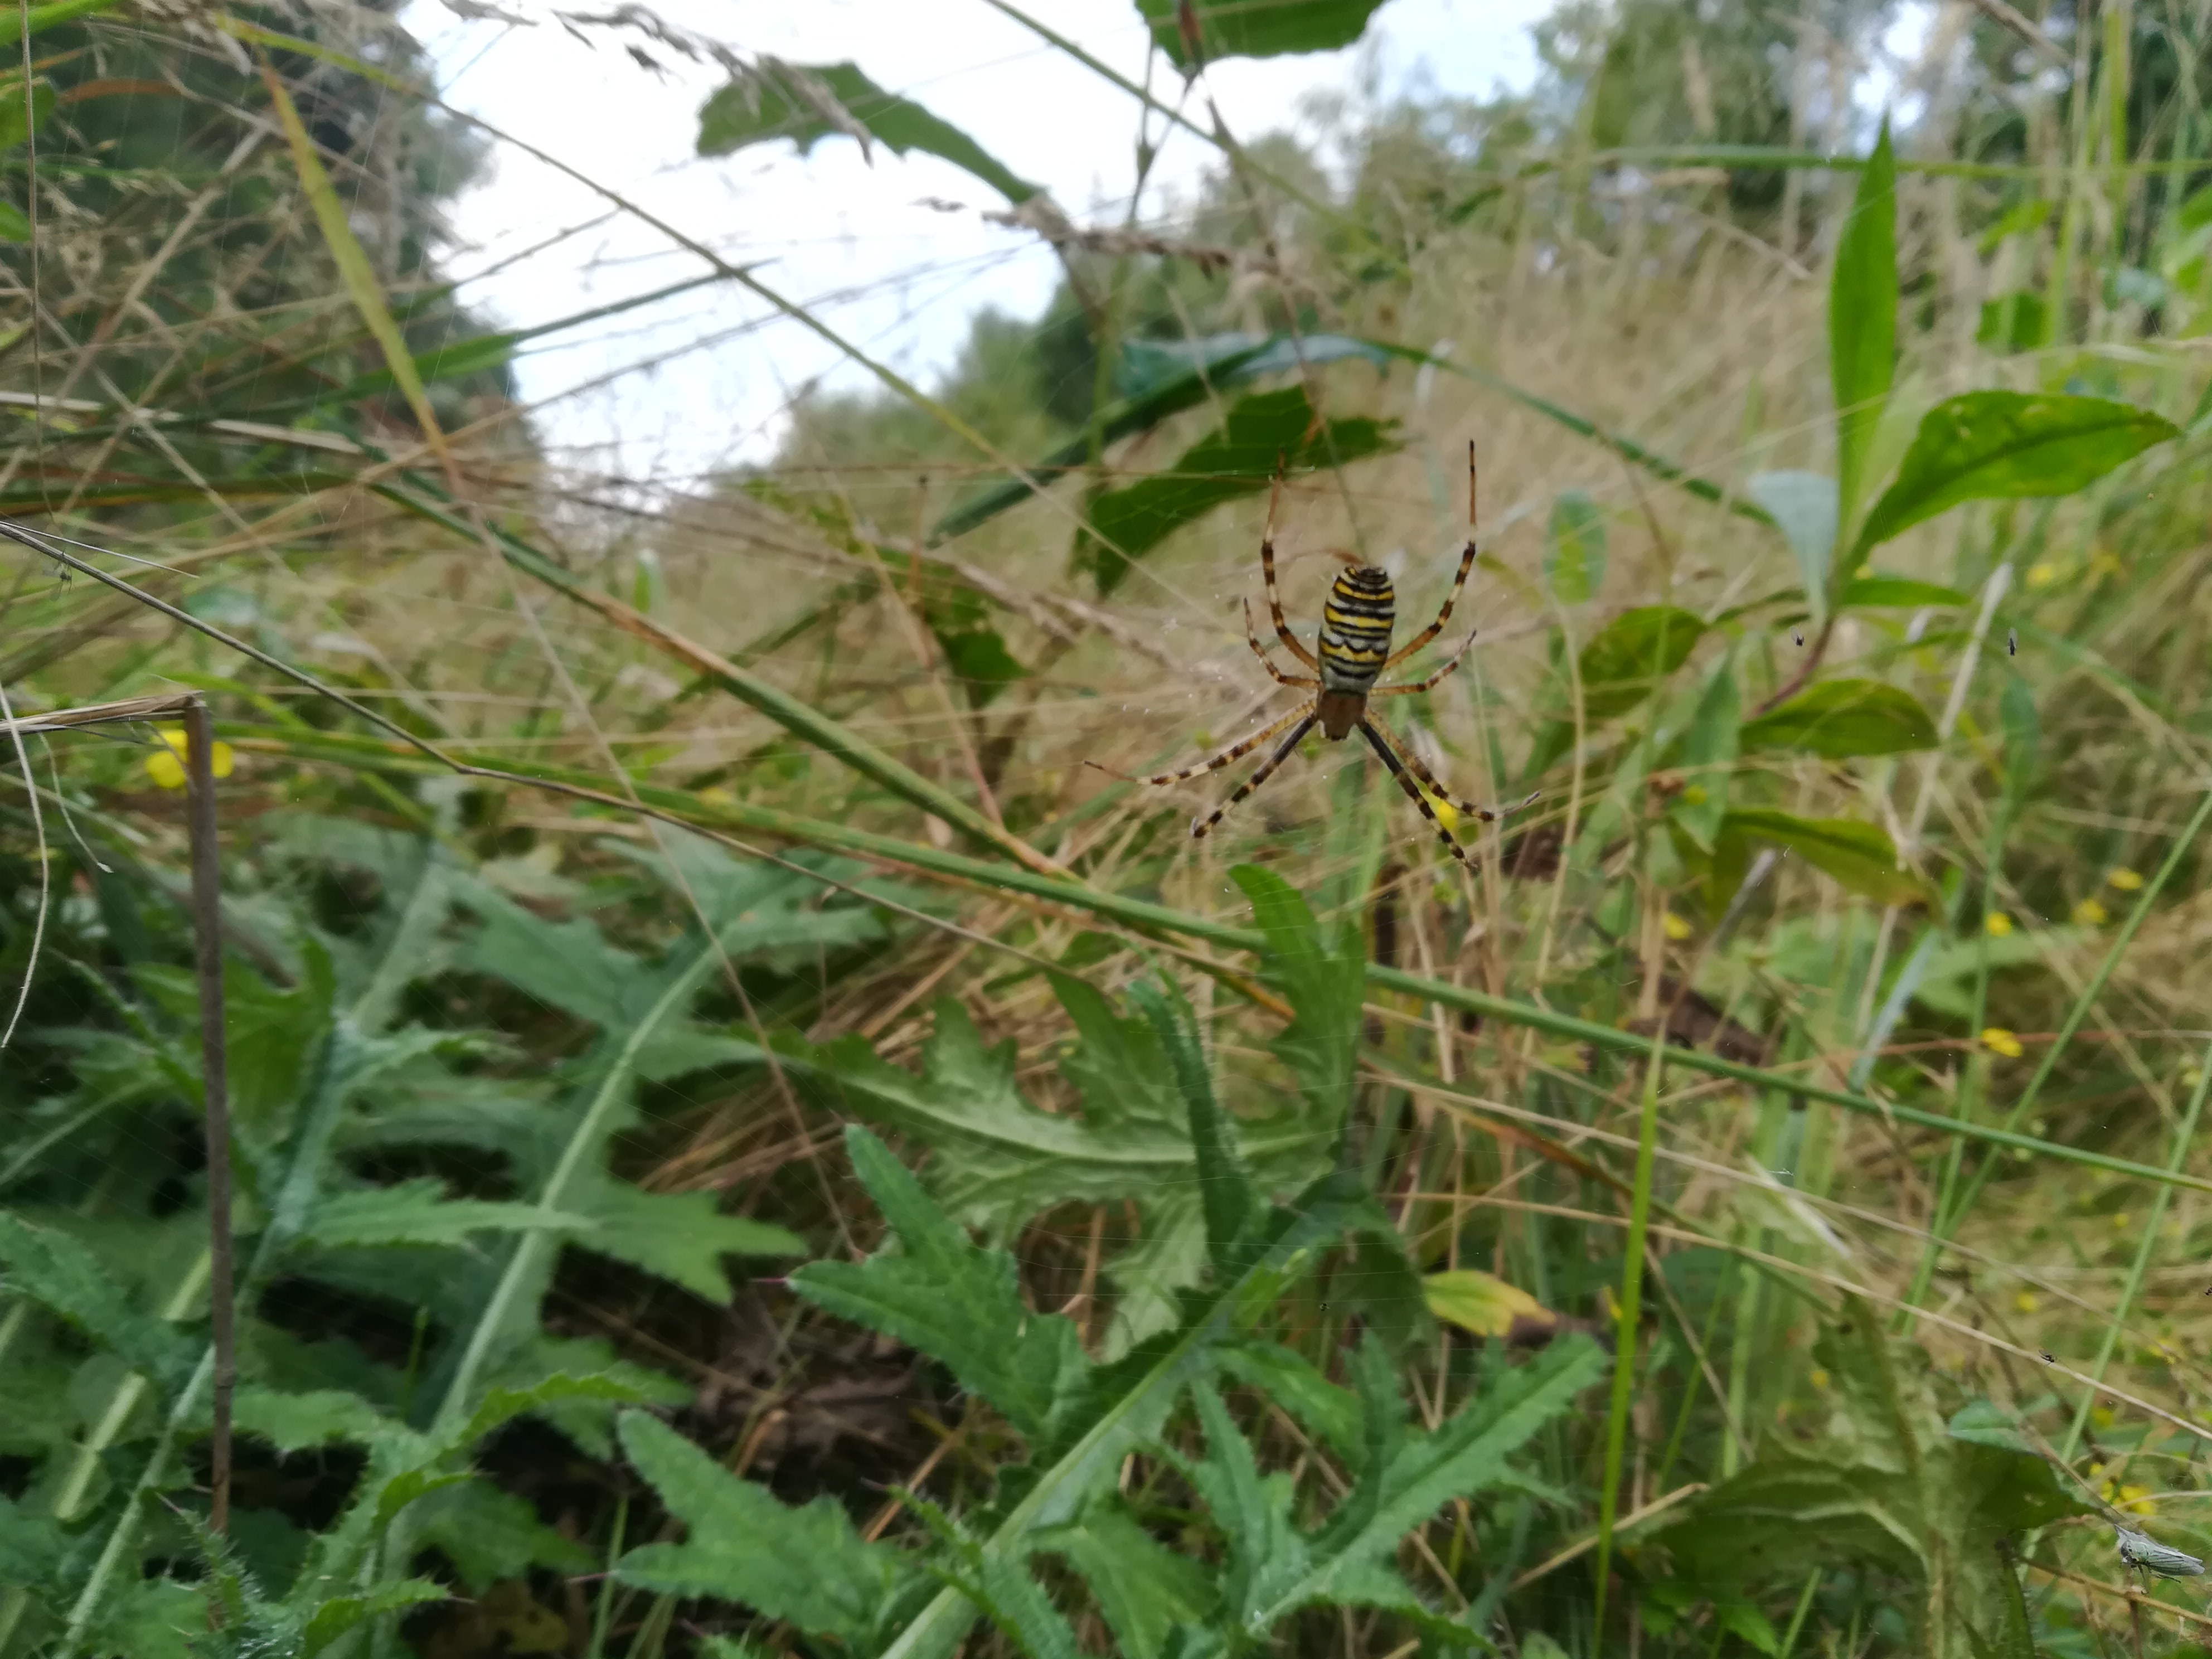spider: (1064, 411, 1587, 897)
